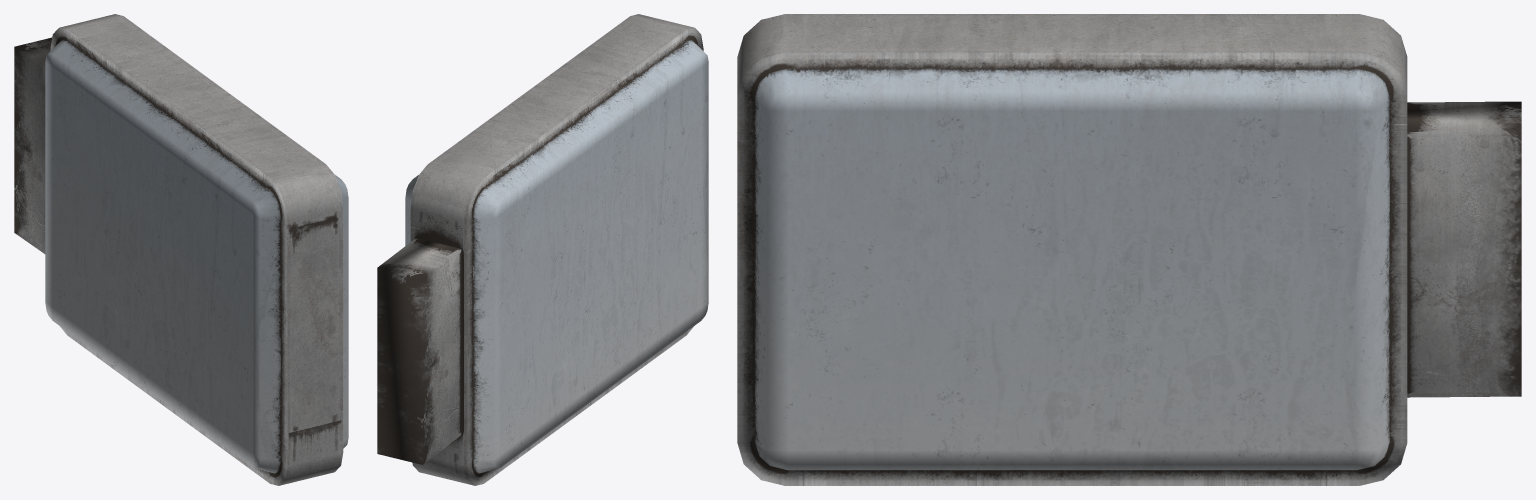
Rendered from Signboard_A.fbx.
The picture shows the model from 3 angles, left to right: view 1: azimuth 30°, elevation 25°; view 2: azimuth 150°, elevation 25°; view 3: azimuth 270°, elevation 25°; orthographic projection. The views are drawn at different scales.
Parts seen in each view (by area): view 1: Signboard_A; view 2: Signboard_A; view 3: Signboard_A.
Boxes of the visible parts, bbox=[...] form: Signboard_A: bbox=[14, 14, 348, 485]; Signboard_A: bbox=[377, 14, 708, 485]; Signboard_A: bbox=[737, 14, 1521, 485].
Bounding box in the file's own units: 20.79 × 68.62 × 113.
1 material, 1 textured.
